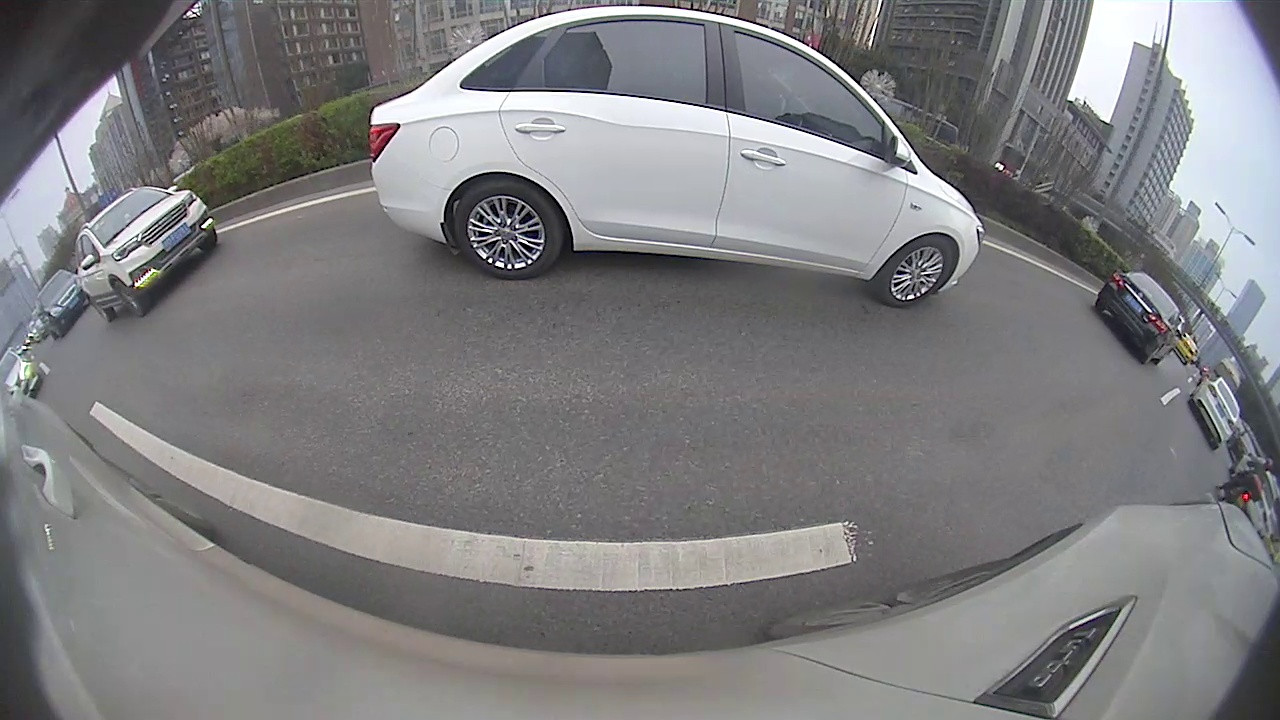bus: (856, 131, 1052, 241), (32, 244, 190, 359), (771, 147, 832, 185)
car: (28, 261, 211, 420), (800, 160, 924, 224), (695, 150, 770, 201), (624, 159, 651, 182)
front: (801, 182, 812, 204)
person: (1128, 230, 1145, 287), (1211, 285, 1225, 340), (1162, 255, 1173, 294), (1183, 262, 1192, 304)
rear: (917, 194, 936, 223), (843, 193, 858, 217)
